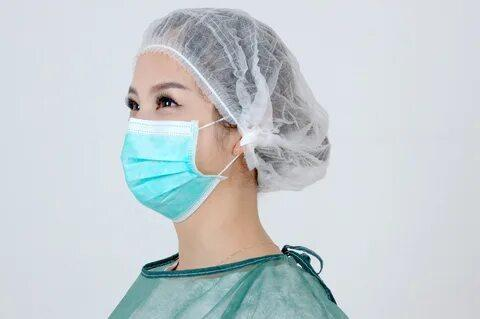hairnet: (136, 0, 384, 186)
mask: (104, 109, 236, 244)
